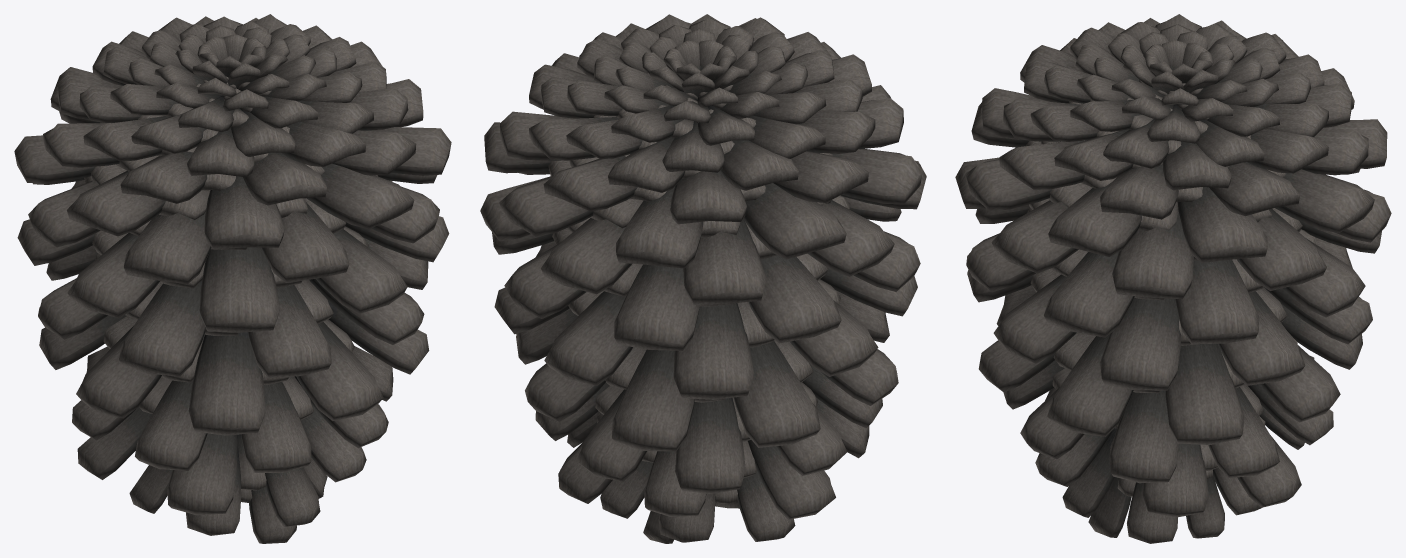
The model's file is Missing_Piece1.FBX.
3 views of the same model, side by side, from view 1: azimuth 30°, elevation 25°; view 2: azimuth 150°, elevation 25°; view 3: azimuth 270°, elevation 25° (orthographic). The views are drawn at different scales.
Visible parts, largest first — view 1: archmodels88_047_001; view 2: archmodels88_047_001; view 3: archmodels88_047_001.
Part boxes in pixels (box(x1,y1,x2,y2)): archmodels88_047_001: box(14, 14, 451, 543); archmodels88_047_001: box(480, 14, 926, 543); archmodels88_047_001: box(955, 14, 1391, 543).
Size of the model in its own units: 65.5 by 78.92 by 65.37.
1 material, 1 textured.
